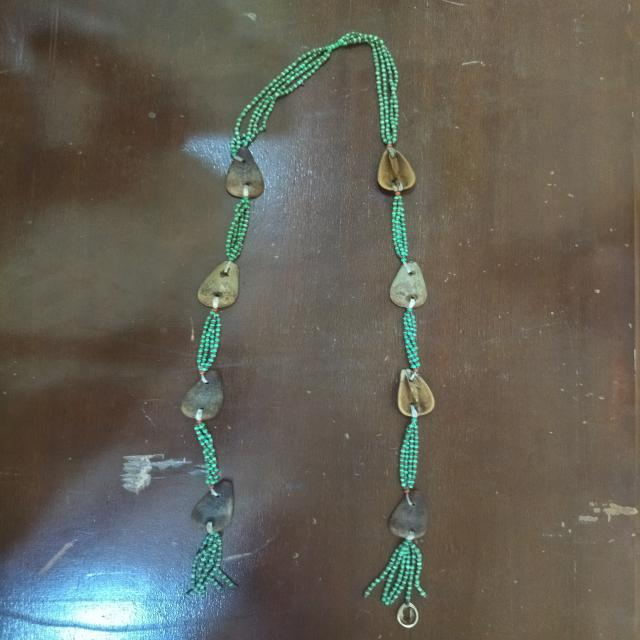facedown: (375, 478, 454, 548), (179, 472, 245, 542), (371, 252, 439, 314), (170, 364, 230, 432), (220, 138, 275, 208), (192, 256, 255, 317)
faceup: (379, 361, 450, 432), (364, 137, 432, 201)
